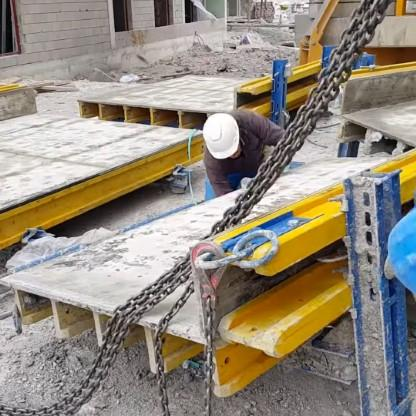helmet: (195, 118, 263, 169)
